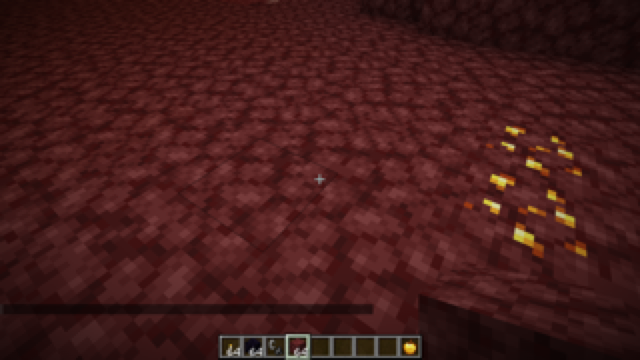nethergold: (463, 121, 591, 266)
